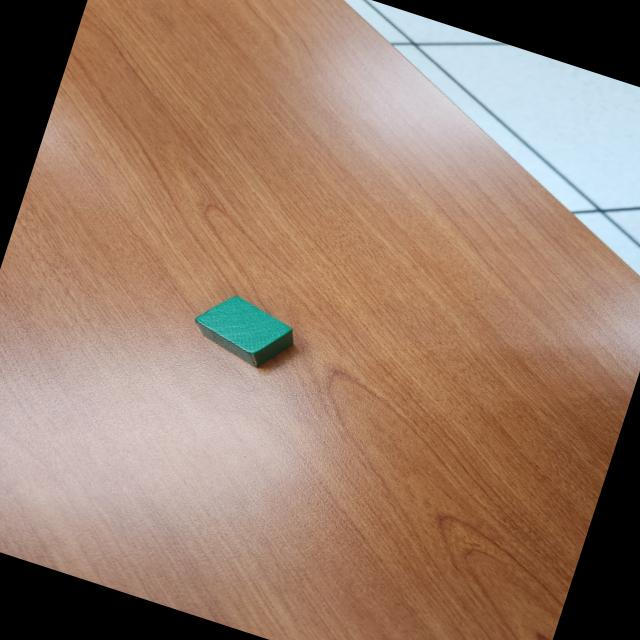green: (186, 285, 304, 377)
